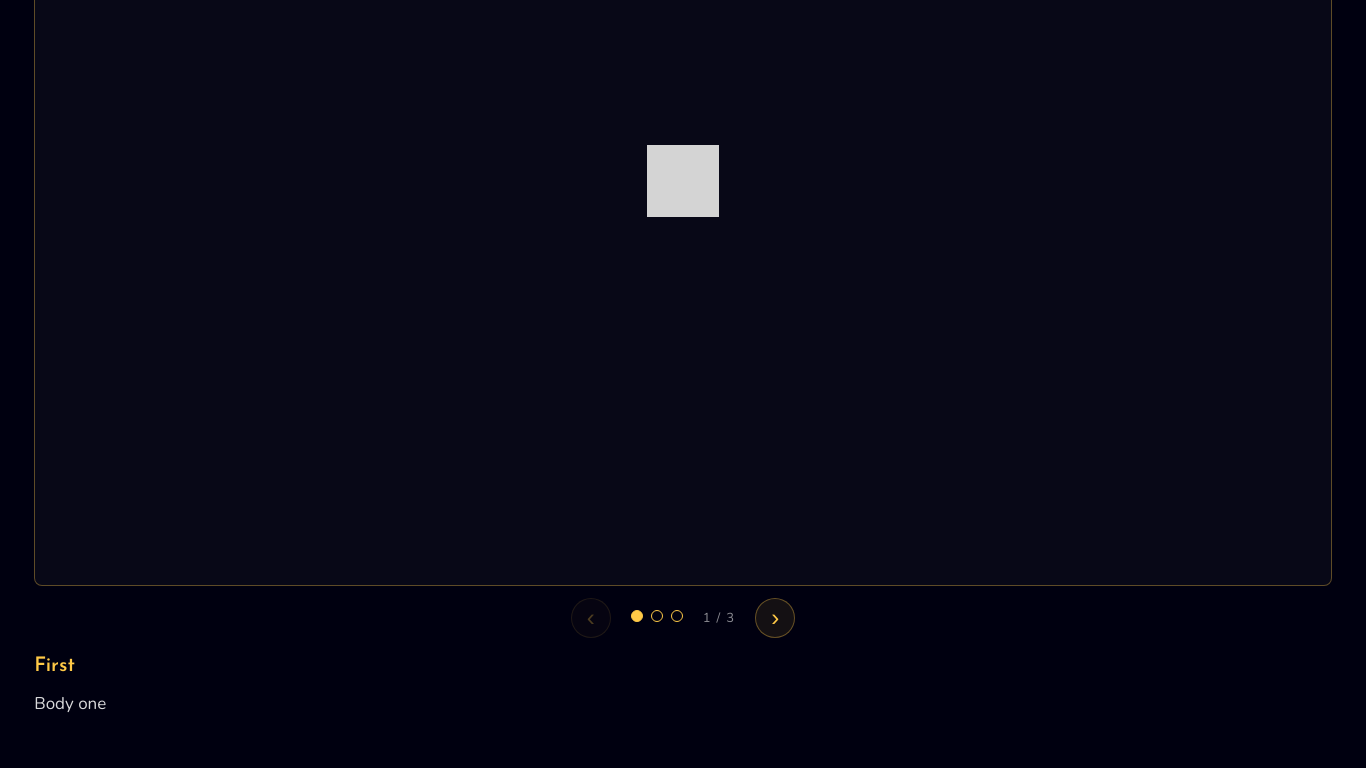
ProjectTour › Previous is disabled on the first step and Next on the last
(page scrolled)
Expected: the button named "previous" is disabled, [571, 598, 611, 638]
Click the button named "next".
click(775, 618)  # box [755, 598, 795, 638]
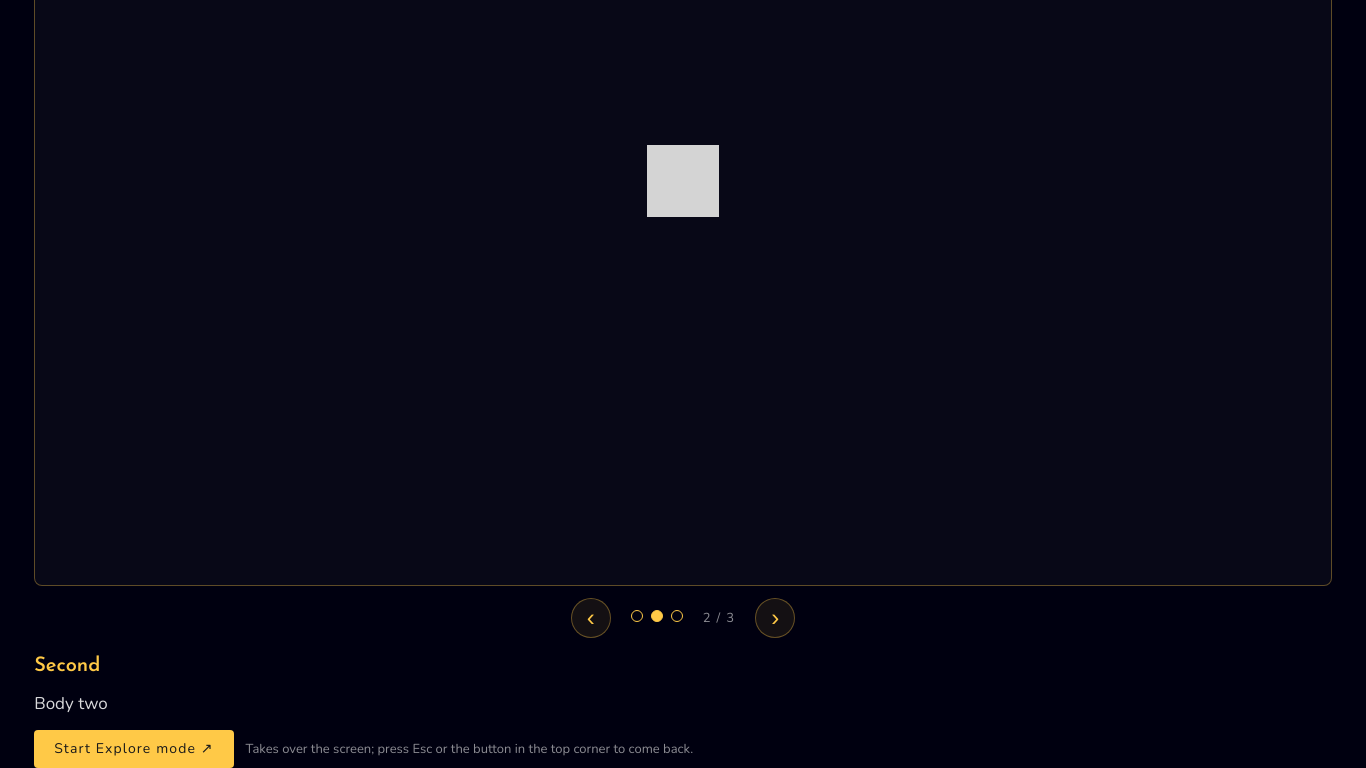
Click the button named "next".
click(775, 618)  # box [755, 598, 795, 638]
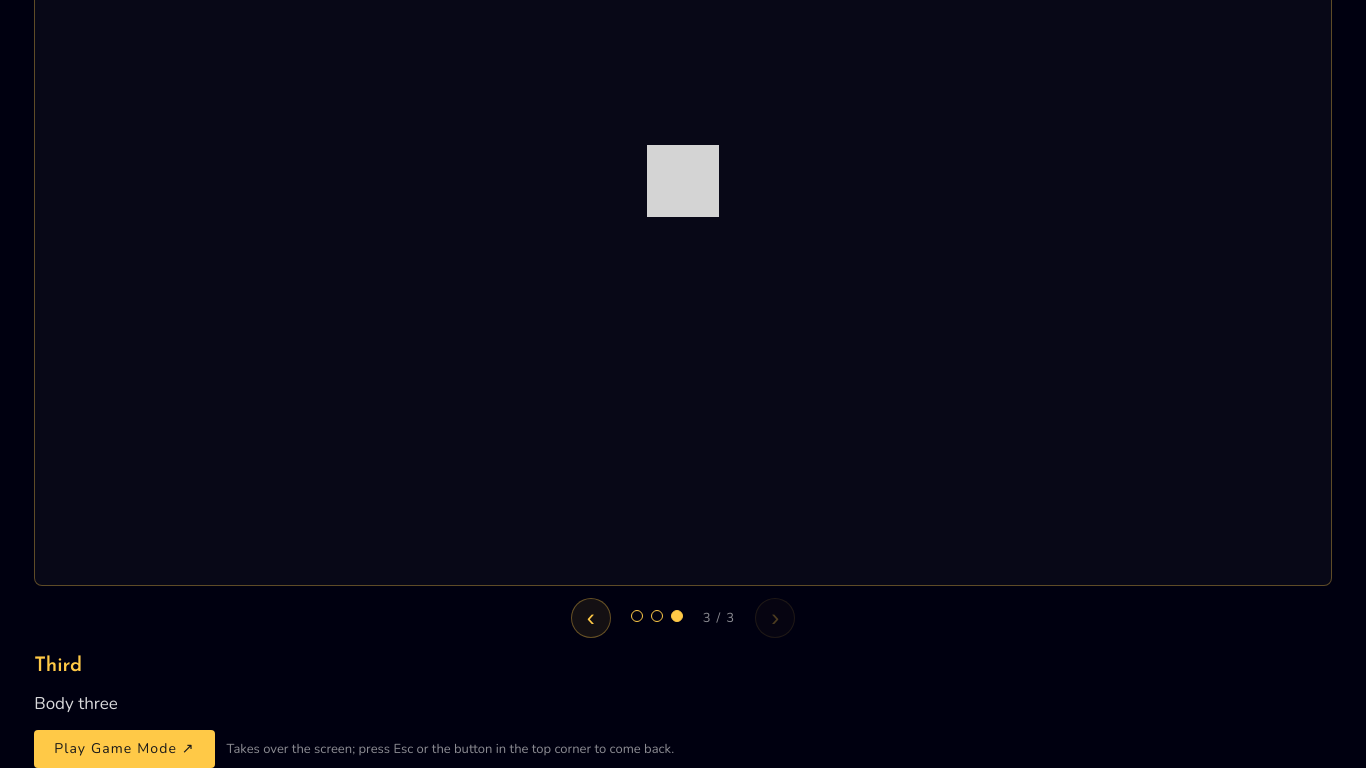
Expected: the button named "next" is disabled, [755, 598, 795, 638]
